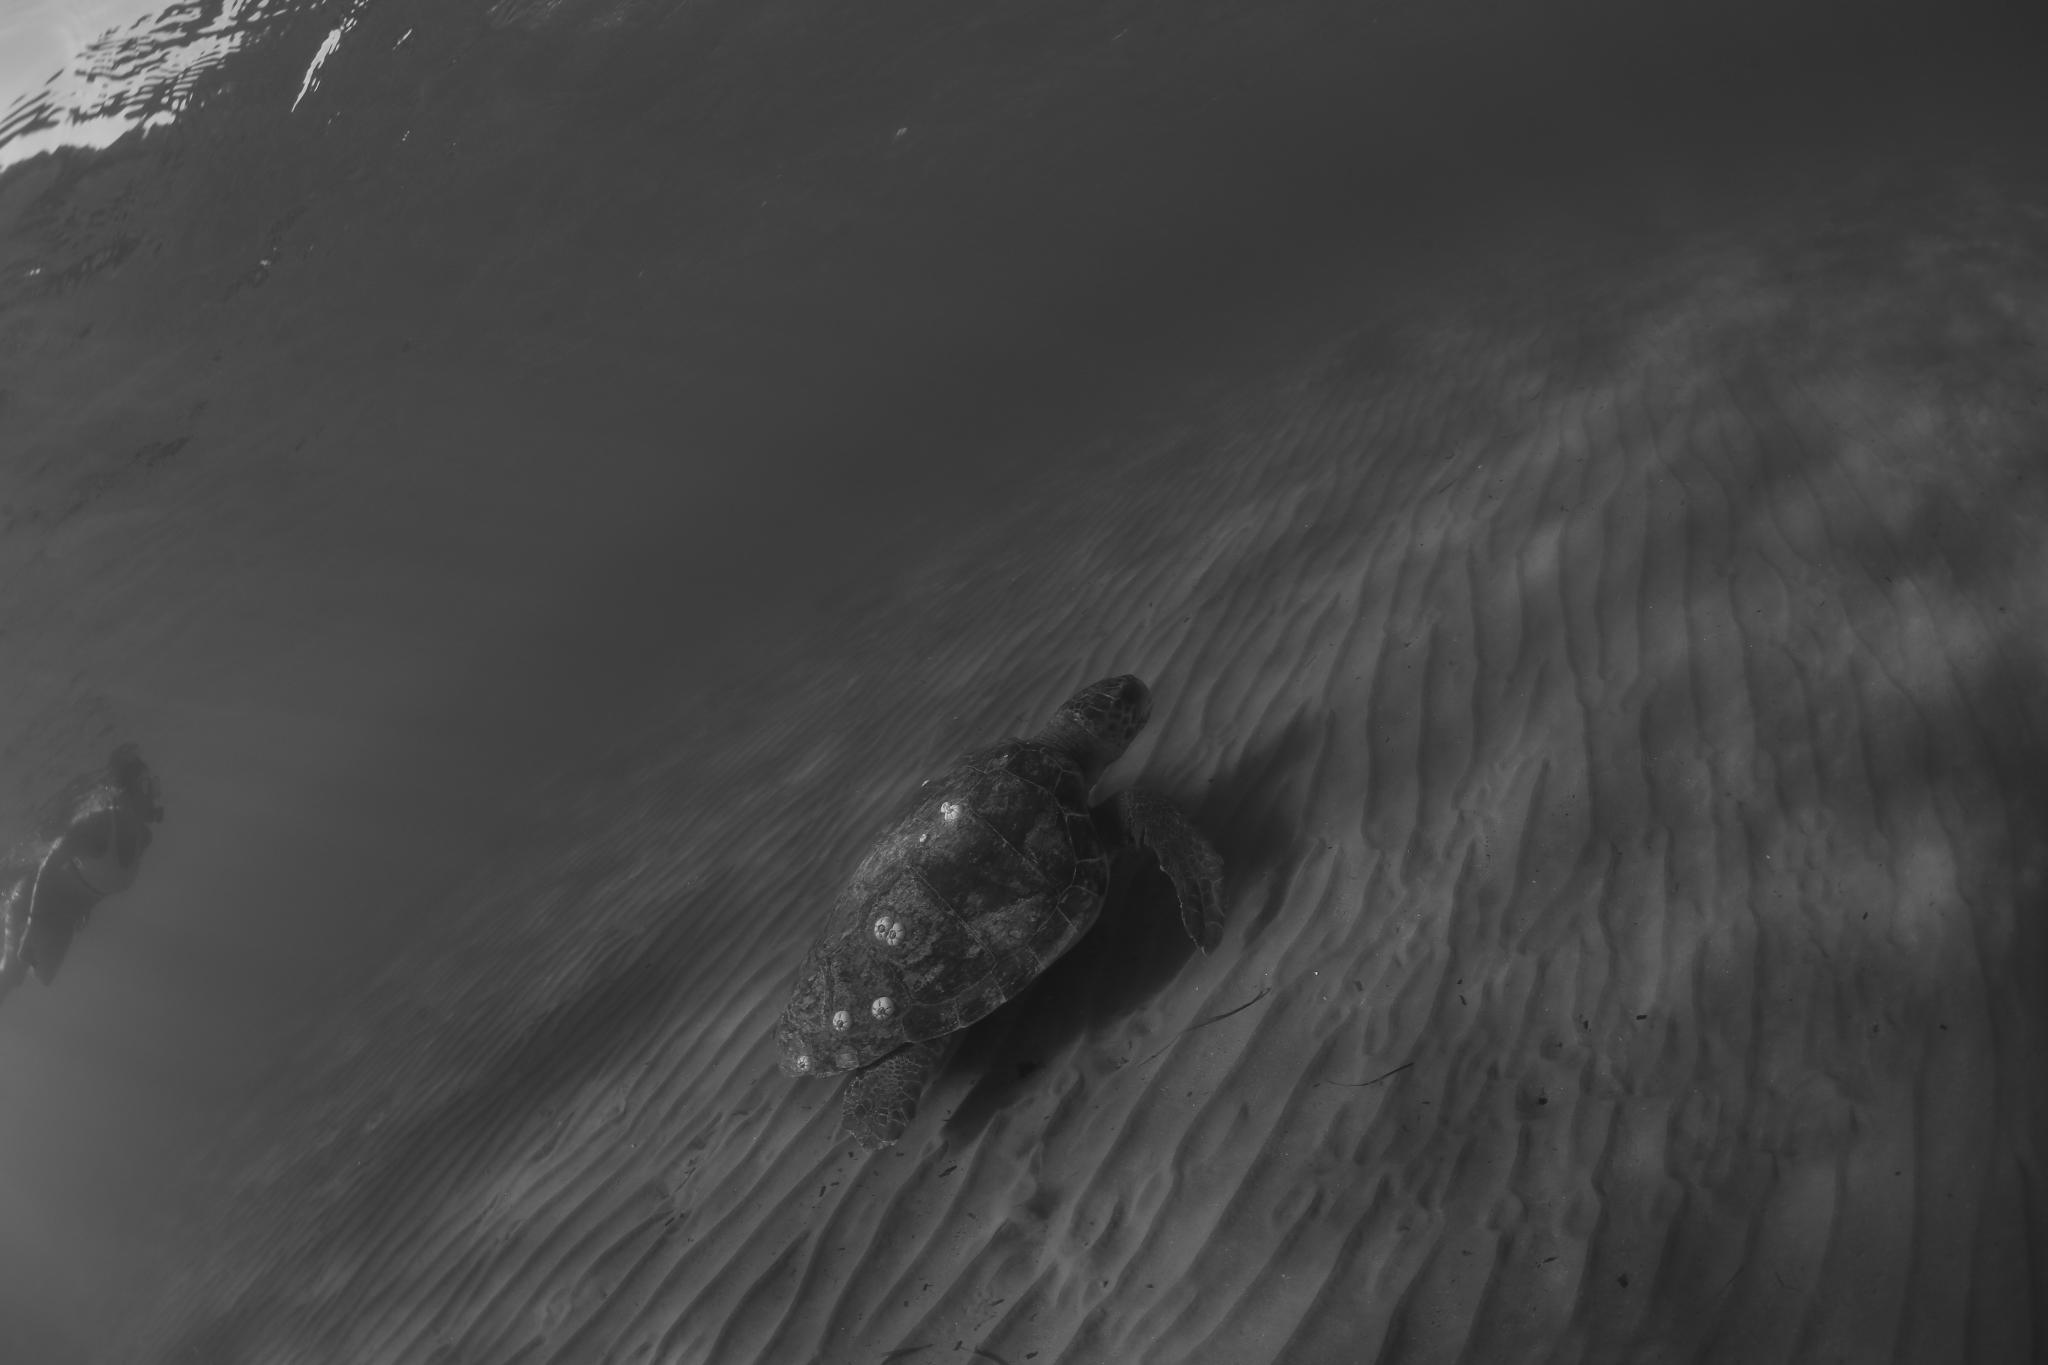Head: (1036, 675, 1151, 769)
